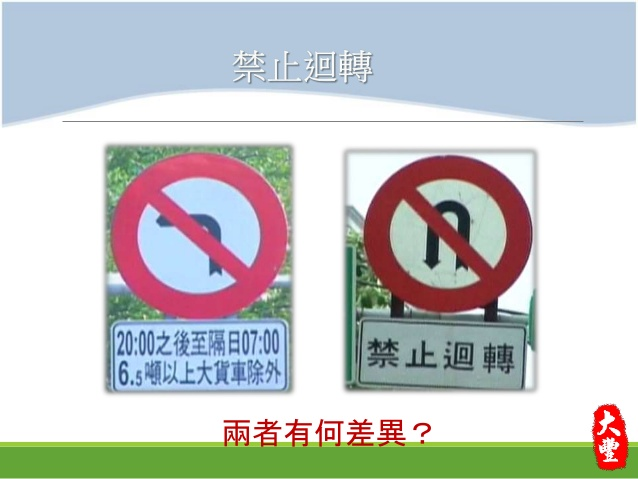No_left_turn: (111, 153, 288, 321)
No_u_turn: (362, 154, 532, 313)
